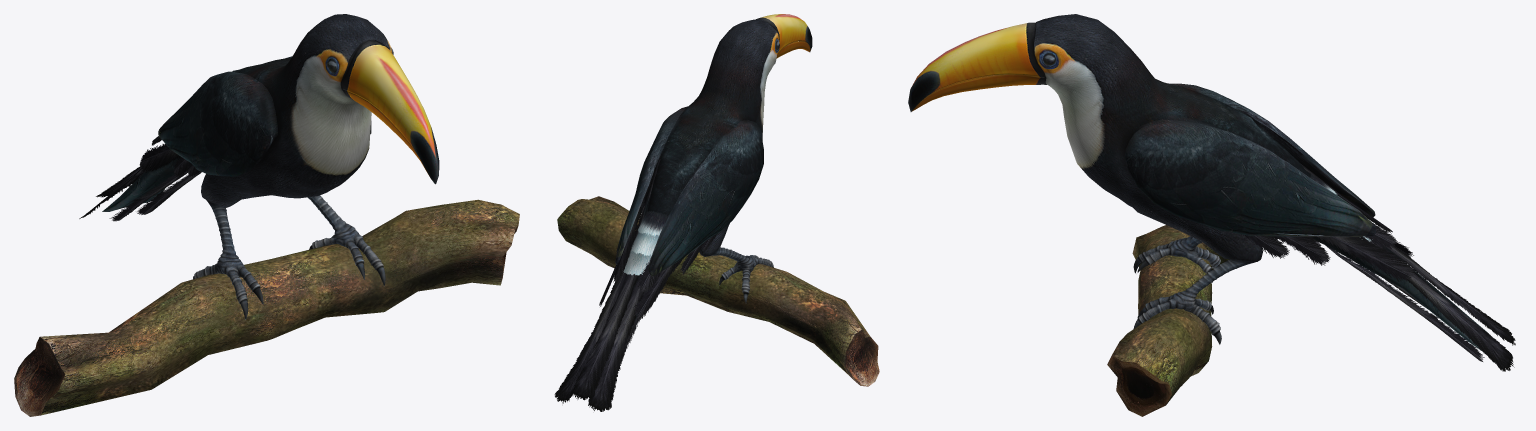
Rendered from toucan.glb.
3 renders of one model, left to right at view 1: azimuth 30°, elevation 25°; view 2: azimuth 150°, elevation 25°; view 3: azimuth 270°, elevation 25°, orthographic. The views are drawn at different scales.
Parts seen in each view (by area): view 1: Toucan.001; view 2: Toucan.001; view 3: Toucan.001.
Boxes of the visible parts, x1=… form: Toucan.001: x1=14, y1=14, x2=519, y2=416; Toucan.001: x1=554, y1=14, x2=879, y2=411; Toucan.001: x1=908, y1=14, x2=1515, y2=416.
Size of the model in its own units: 47.39 by 37.95 by 58.24.
3 materials, 3 textured.
